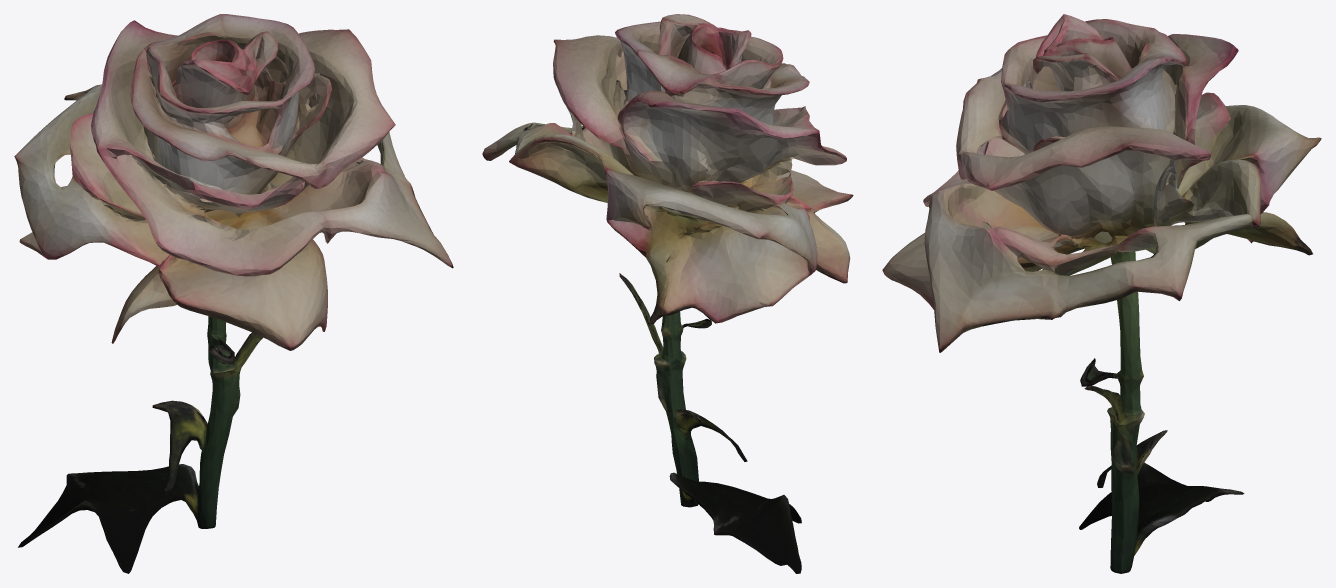
3 renders of one model, left to right at view 1: azimuth 30°, elevation 25°; view 2: azimuth 150°, elevation 25°; view 3: azimuth 270°, elevation 25°, orthographic. The views are drawn at different scales.
Visible parts, largest first — view 1: world; view 2: world; view 3: world.
Part boxes in pixels (left/top/right/bottom): world: left=14, top=14, right=453, bottom=573; world: left=482, top=14, right=853, bottom=573; world: left=882, top=14, right=1321, bottom=573.
Size of the model in its own units: 0.6569 by 0.915 by 0.6639.
Materials: 1 (1 with a texture image).
